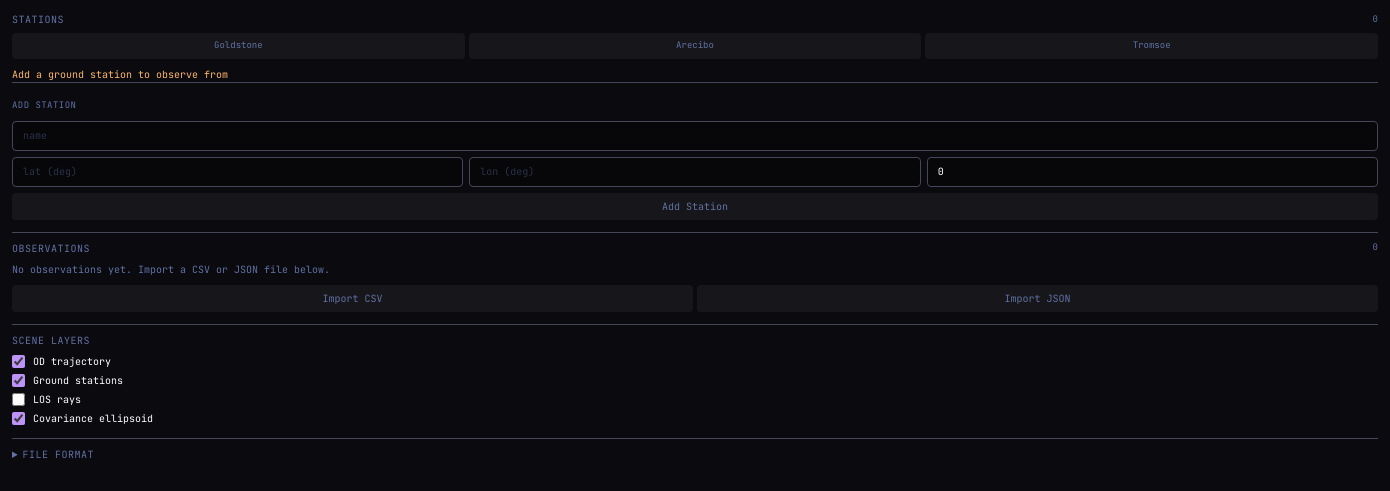
Test: ObservationPanel canonical station parity › quick-add uses the shared canonical coordinates
Step 1. Click the button "Goldstone" → click(238, 46), box [12,33,465,58]
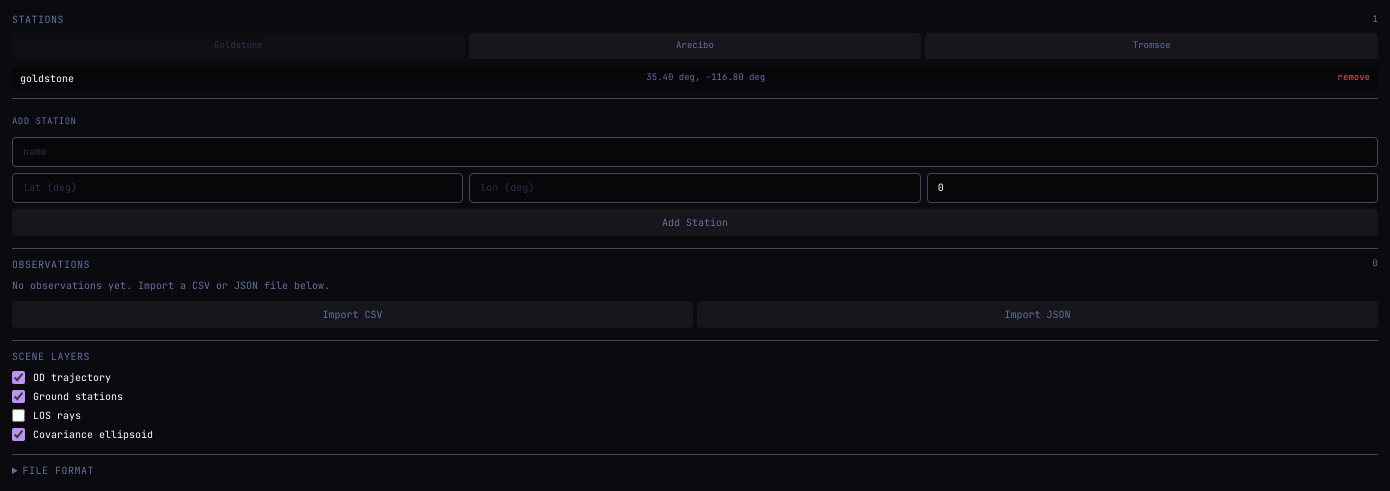
Now the text "goldstone" is shown, box [20,70,74,86]
